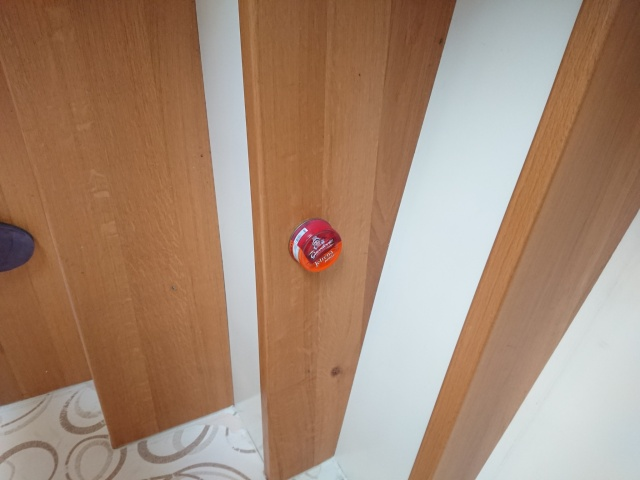Gavrilovic Pork Liver Pate 100g: (286, 214, 344, 274)
